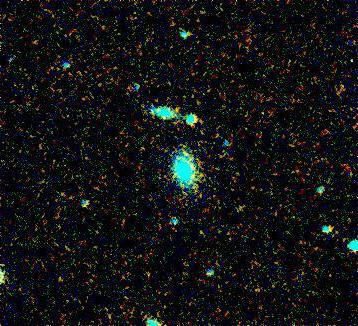star: (211, 139, 241, 169)
